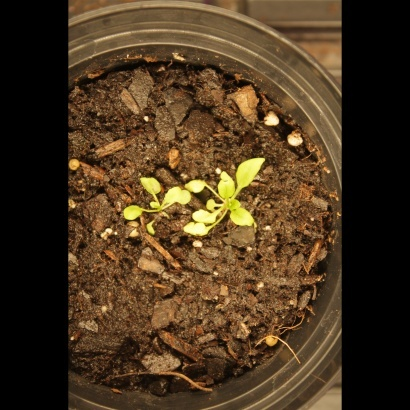leaf: (233, 150, 271, 196), (230, 203, 261, 234), (213, 165, 238, 199), (189, 207, 223, 230), (121, 201, 144, 224), (141, 173, 164, 196), (143, 216, 166, 239), (159, 185, 182, 208), (168, 190, 191, 213), (183, 174, 206, 197), (183, 217, 206, 240), (202, 194, 225, 217)
